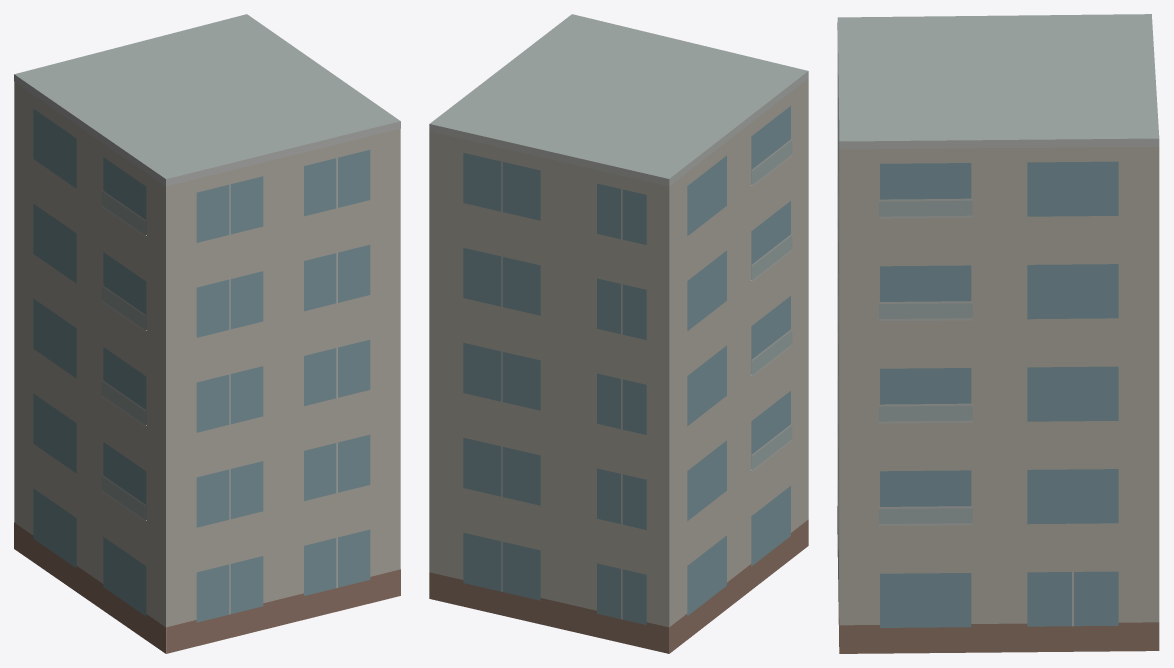
The model's file is survey-upis-32826862.glb.
3 renders of one model, left to right at view 1: azimuth 30°, elevation 25°; view 2: azimuth 150°, elevation 25°; view 3: azimuth 270°, elevation 25°, orthographic. The views are drawn at different scales.
Visible parts, largest first — view 1: survey-upis-32826862.tmp; view 2: survey-upis-32826862.tmp; view 3: survey-upis-32826862.tmp.
Part boxes in pixels (box(x1,y1,x2,y2)): survey-upis-32826862.tmp: box(14, 14, 400, 653); survey-upis-32826862.tmp: box(429, 14, 808, 653); survey-upis-32826862.tmp: box(837, 14, 1159, 653).
Size of the model in its own units: 8.34 by 15.6 by 8.89.
